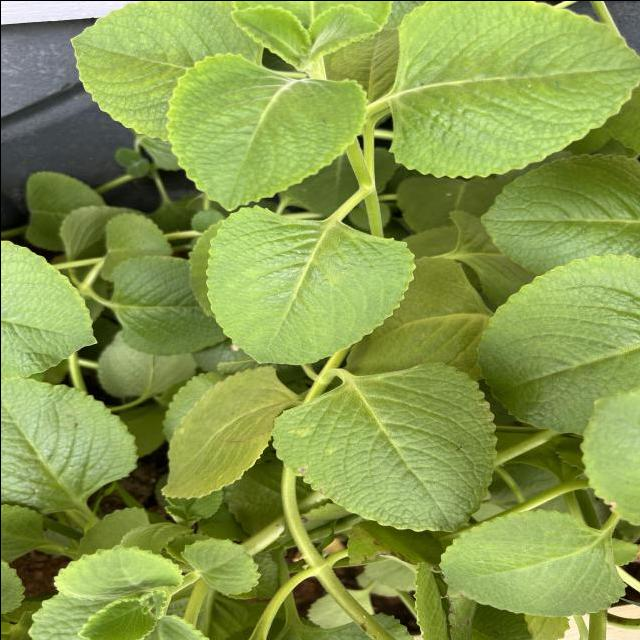Plectranthus barbatus: (386, 0, 640, 179), (266, 356, 502, 534), (202, 202, 416, 365), (163, 51, 370, 212), (471, 250, 640, 435), (68, 1, 271, 142), (436, 506, 632, 618), (475, 149, 640, 277), (157, 363, 295, 500), (108, 254, 234, 356)
